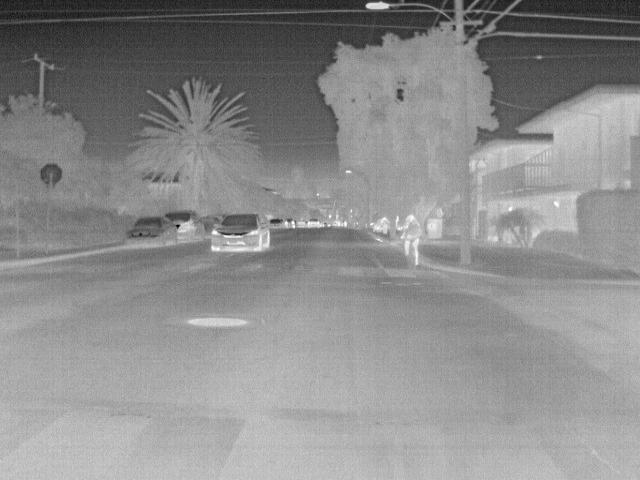car: (210, 213, 271, 254), (125, 214, 177, 246), (164, 209, 206, 241), (201, 216, 221, 238), (268, 218, 287, 230), (306, 218, 320, 230)
person: (401, 213, 422, 264)
